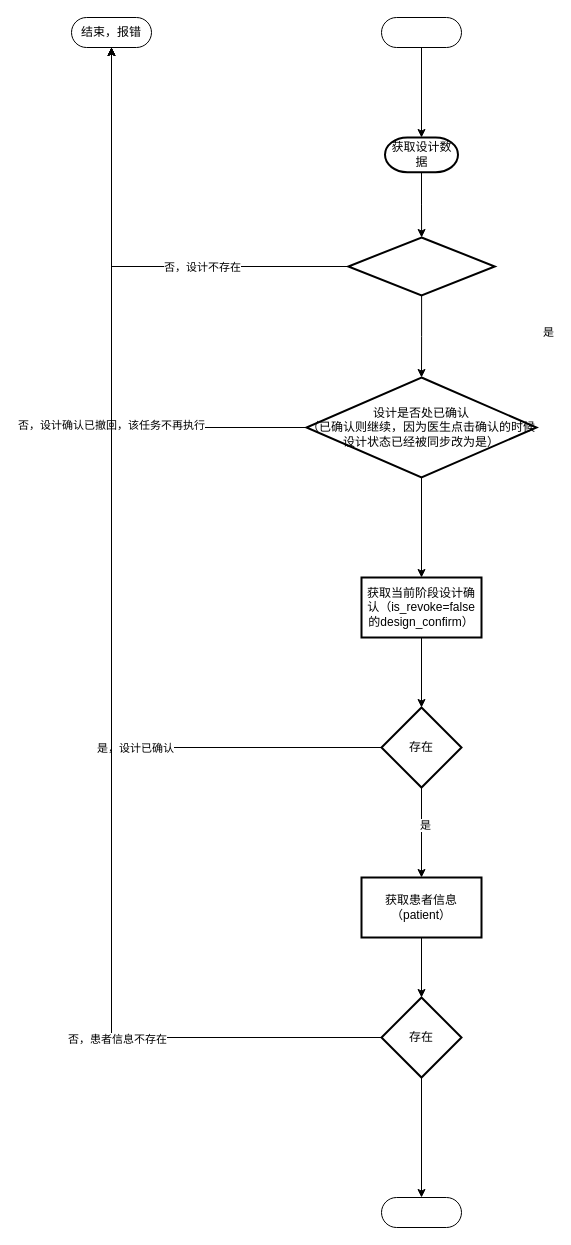
This 571x1245 diagram has some shape labels left out. The shapes that lost their labels are listed below. From the top down, each one's centre as x and y in pixels, then its label:
At point (421, 32): "开始".
At point (421, 266): "设计（design）是否处存在".
At point (421, 1212): "结束".
